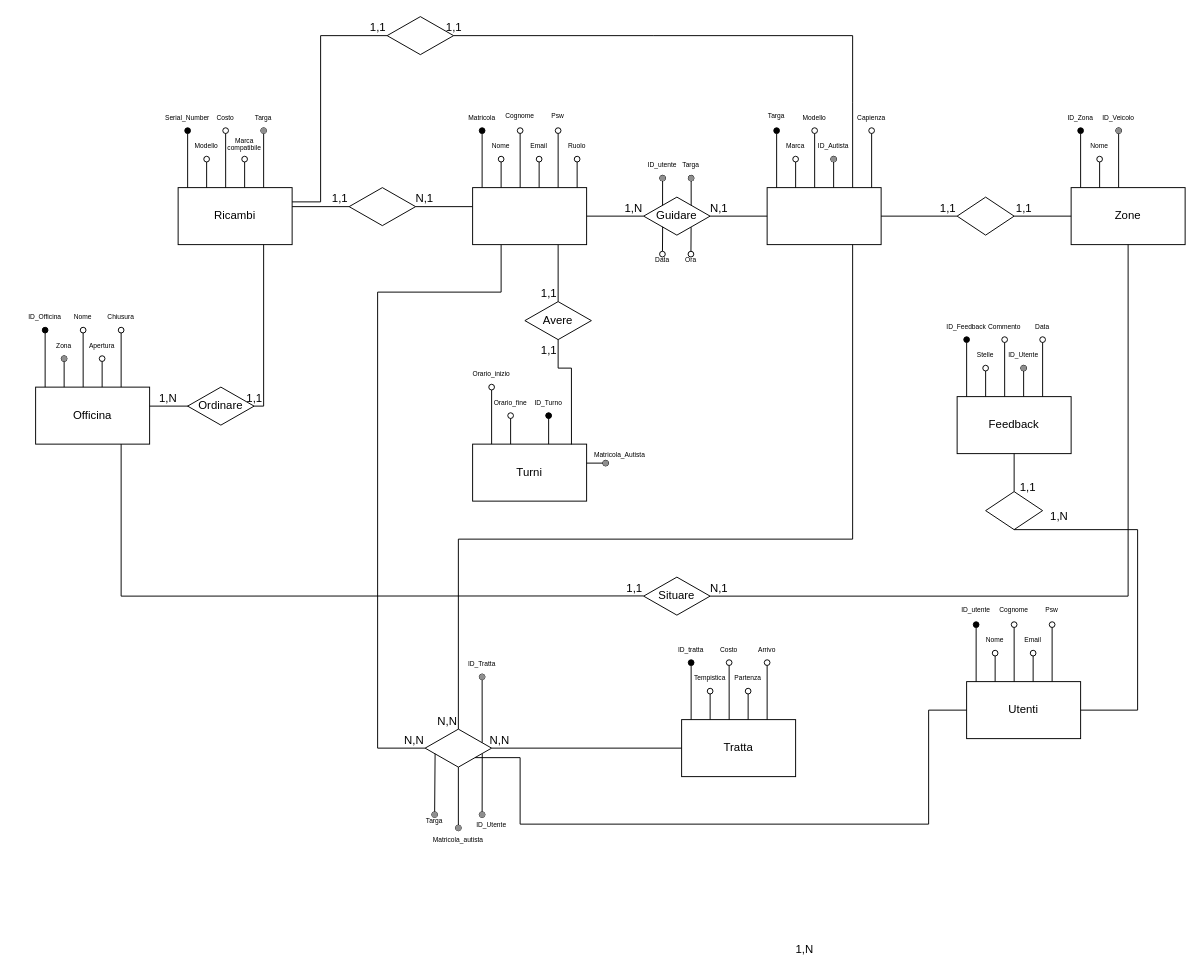
Some shapes in this 1202 by 974 pixel diagram are drawn without their labels. Here are the shapes that lost their labels. From the top down, the centre of each, then its label:
the point at 420,35: Montare
the point at 382,206: Richiedere
the point at 529,216: Personale
the point at 823,216: Veicoli
the point at 985,215: Appartenere
the point at 1014,510: Lasciare
the point at 458,747: Prenotare
